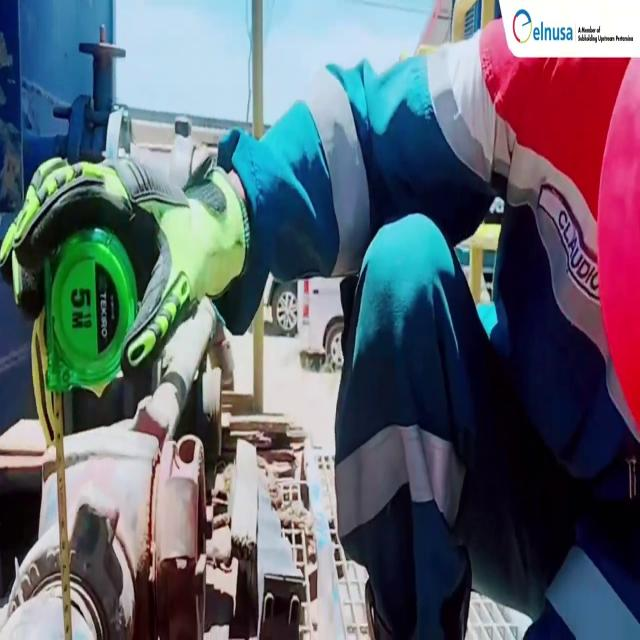Gloves: (0, 152, 249, 374)
Overall Suit: (234, 59, 640, 640)
